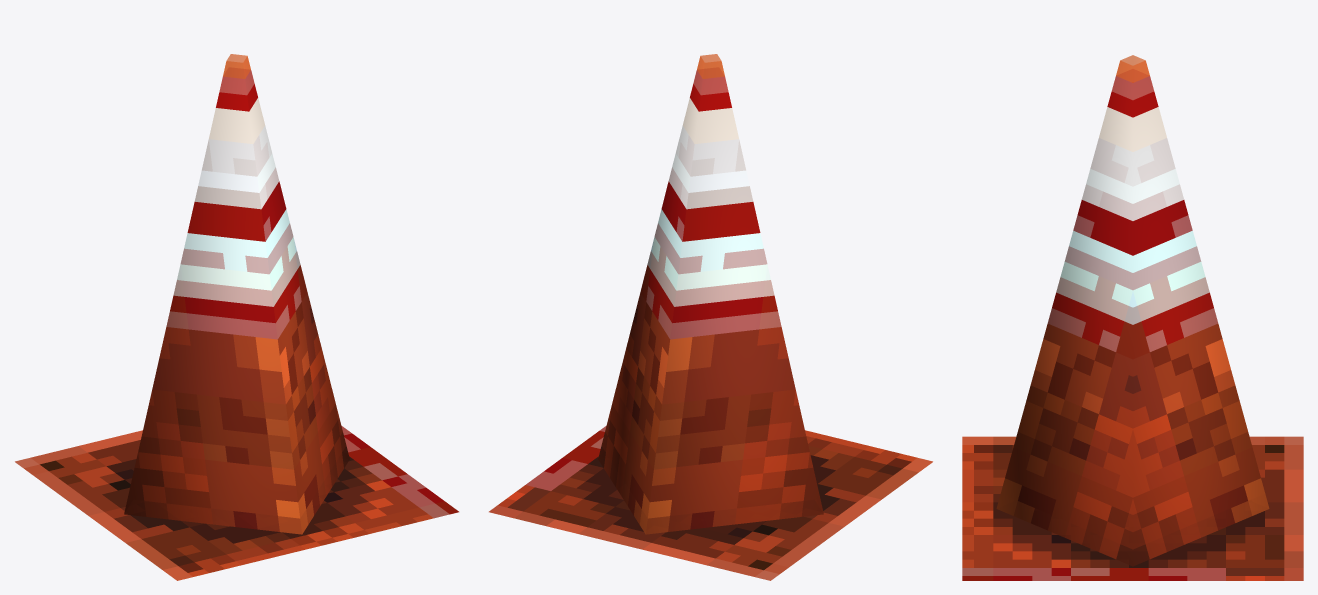
Rendered from Environment - Prop - Road Cone - PMCone.glb.
3 renders of one model, left to right at view 1: azimuth 30°, elevation 25°; view 2: azimuth 150°, elevation 25°; view 3: azimuth 270°, elevation 25°, orthographic. The views are drawn at different scales.
Visible parts, largest first — view 1: PMCONE; view 2: PMCONE; view 3: PMCONE.
Boxes of the visible parts, <box> form: PMCONE: <box>15,54,458,580</box>; PMCONE: <box>489,54,932,580</box>; PMCONE: <box>962,55,1303,580</box>.
Bounding box in the file's own units: 3.81 × 6.1 × 3.81.
1 material, 1 textured.
